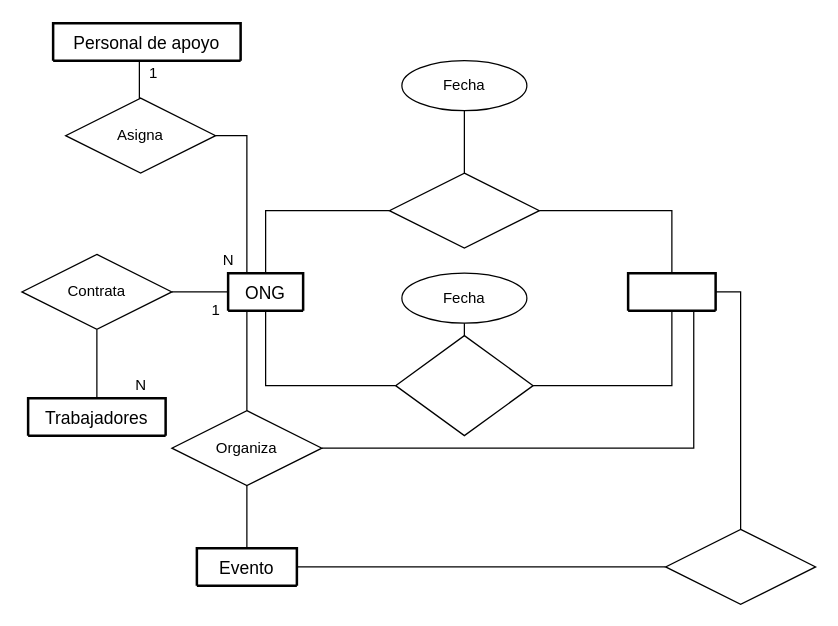
Image size: 838x626. Some labels were removed from this diagram. Here are the shapes that lost their labels. From the top down, the centre of each, then its label:
point 463,210: Pertenecen
point 671,291: Socios
point 463,385: Presidente
point 740,566: Responsable
